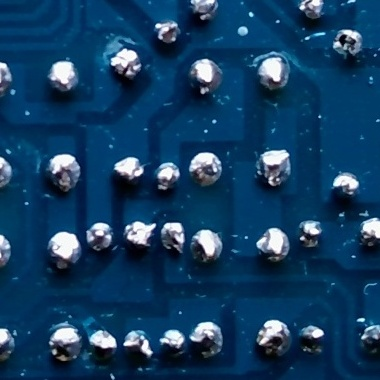?: (255, 149, 294, 186), (161, 216, 185, 255), (333, 173, 362, 200), (161, 326, 187, 354), (189, 0, 220, 23), (362, 322, 380, 349)
drag: (47, 152, 82, 191), (190, 228, 224, 266), (258, 318, 291, 354), (299, 221, 324, 249), (359, 216, 380, 246), (157, 19, 181, 44)
little: (192, 322, 227, 360), (334, 29, 364, 60), (124, 328, 153, 359), (152, 161, 180, 191), (0, 326, 16, 361), (299, 0, 327, 19)
norm: (187, 57, 224, 98), (48, 324, 82, 362), (49, 229, 79, 271), (257, 54, 291, 90), (253, 227, 288, 261), (189, 152, 222, 184), (49, 60, 79, 93), (297, 320, 326, 351), (125, 219, 156, 248), (88, 328, 117, 358), (86, 222, 114, 251), (0, 231, 12, 270), (0, 155, 13, 191), (0, 61, 11, 95)
tip: (109, 45, 144, 79)
